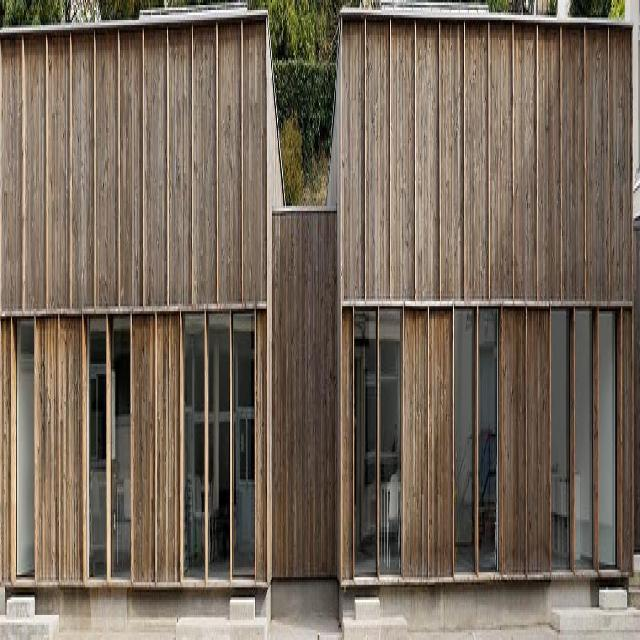wall: (0, 15, 635, 631)
windows: (185, 320, 256, 586), (552, 313, 618, 572), (356, 317, 404, 580), (89, 320, 132, 594), (456, 313, 500, 574), (17, 326, 36, 584)
